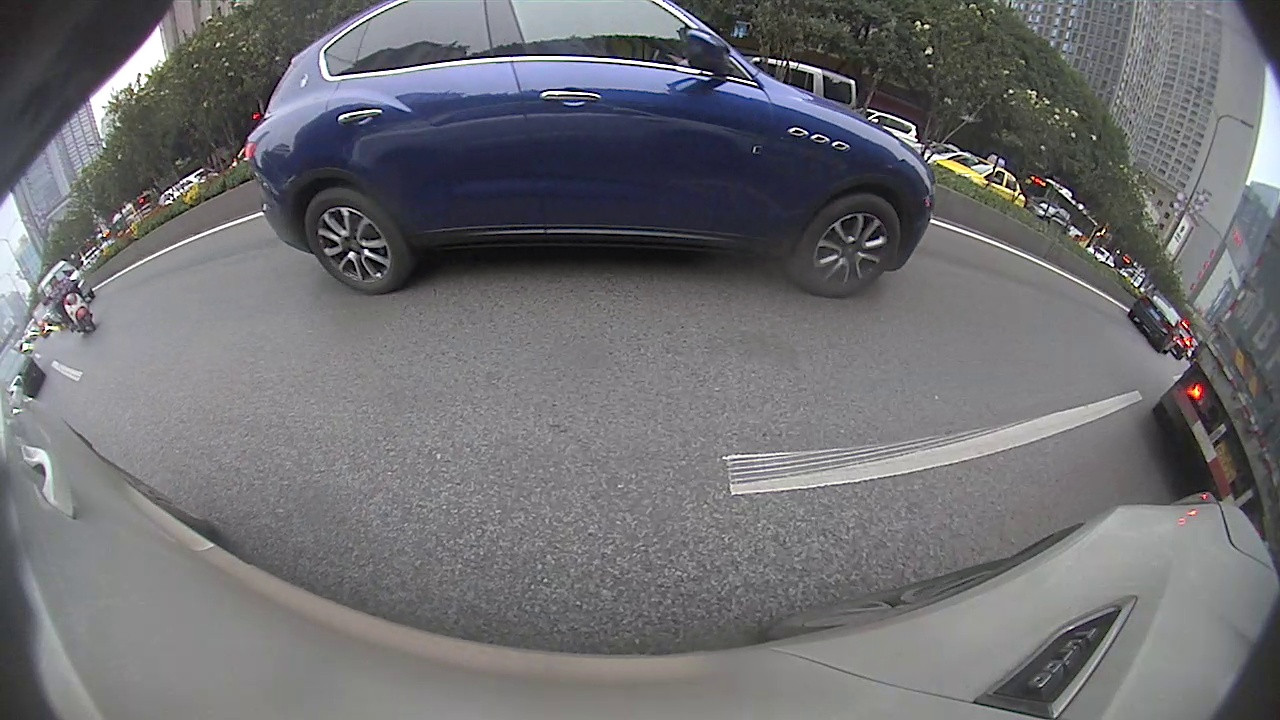car: (0, 353, 113, 490), (428, 157, 547, 224), (259, 203, 354, 263), (673, 146, 758, 203), (144, 251, 214, 310), (531, 152, 579, 191)
person: (992, 161, 1009, 233), (894, 151, 910, 203)
rear: (501, 188, 520, 216)
rider: (392, 192, 411, 215)
